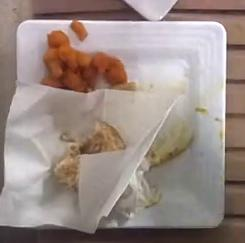carrots: (42, 31, 136, 92), (71, 21, 88, 41)
donut: (54, 120, 125, 190)
